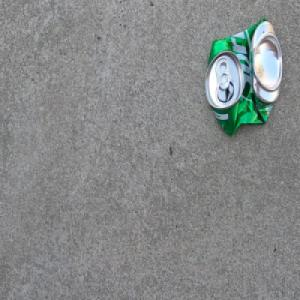SodaCan: (204, 16, 283, 137)
